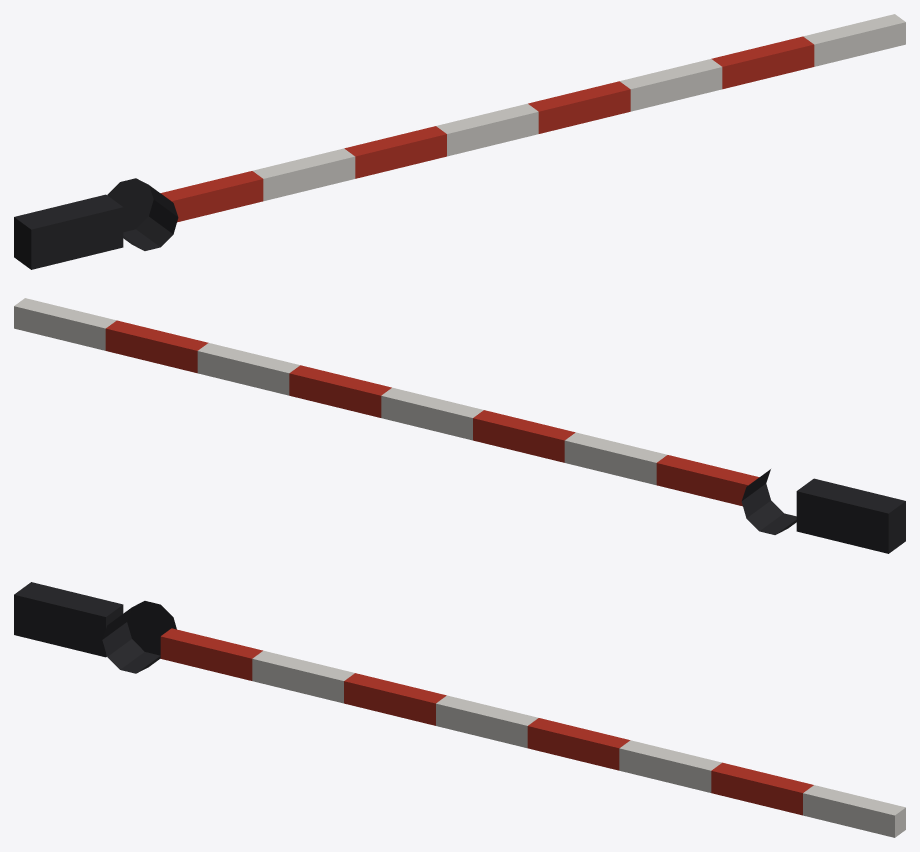
File: ns_airtoll_arm_lod1.glb
The picture shows the model from 3 angles, top to bottom: view 1: azimuth 30°, elevation 25°; view 2: azimuth 150°, elevation 25°; view 3: azimuth 330°, elevation 25°; orthographic projection.
Visible parts, largest first — view 1: ns_airtoll_arm_lod1; view 2: ns_airtoll_arm_lod1; view 3: ns_airtoll_arm_lod1.
Part boxes in pixels (bbox=[...]): ns_airtoll_arm_lod1: bbox=[14, 14, 905, 269]; ns_airtoll_arm_lod1: bbox=[14, 298, 905, 553]; ns_airtoll_arm_lod1: bbox=[14, 582, 905, 837].
Bounding box in the file's own units: 4.1 × 0.2283 × 0.2.
